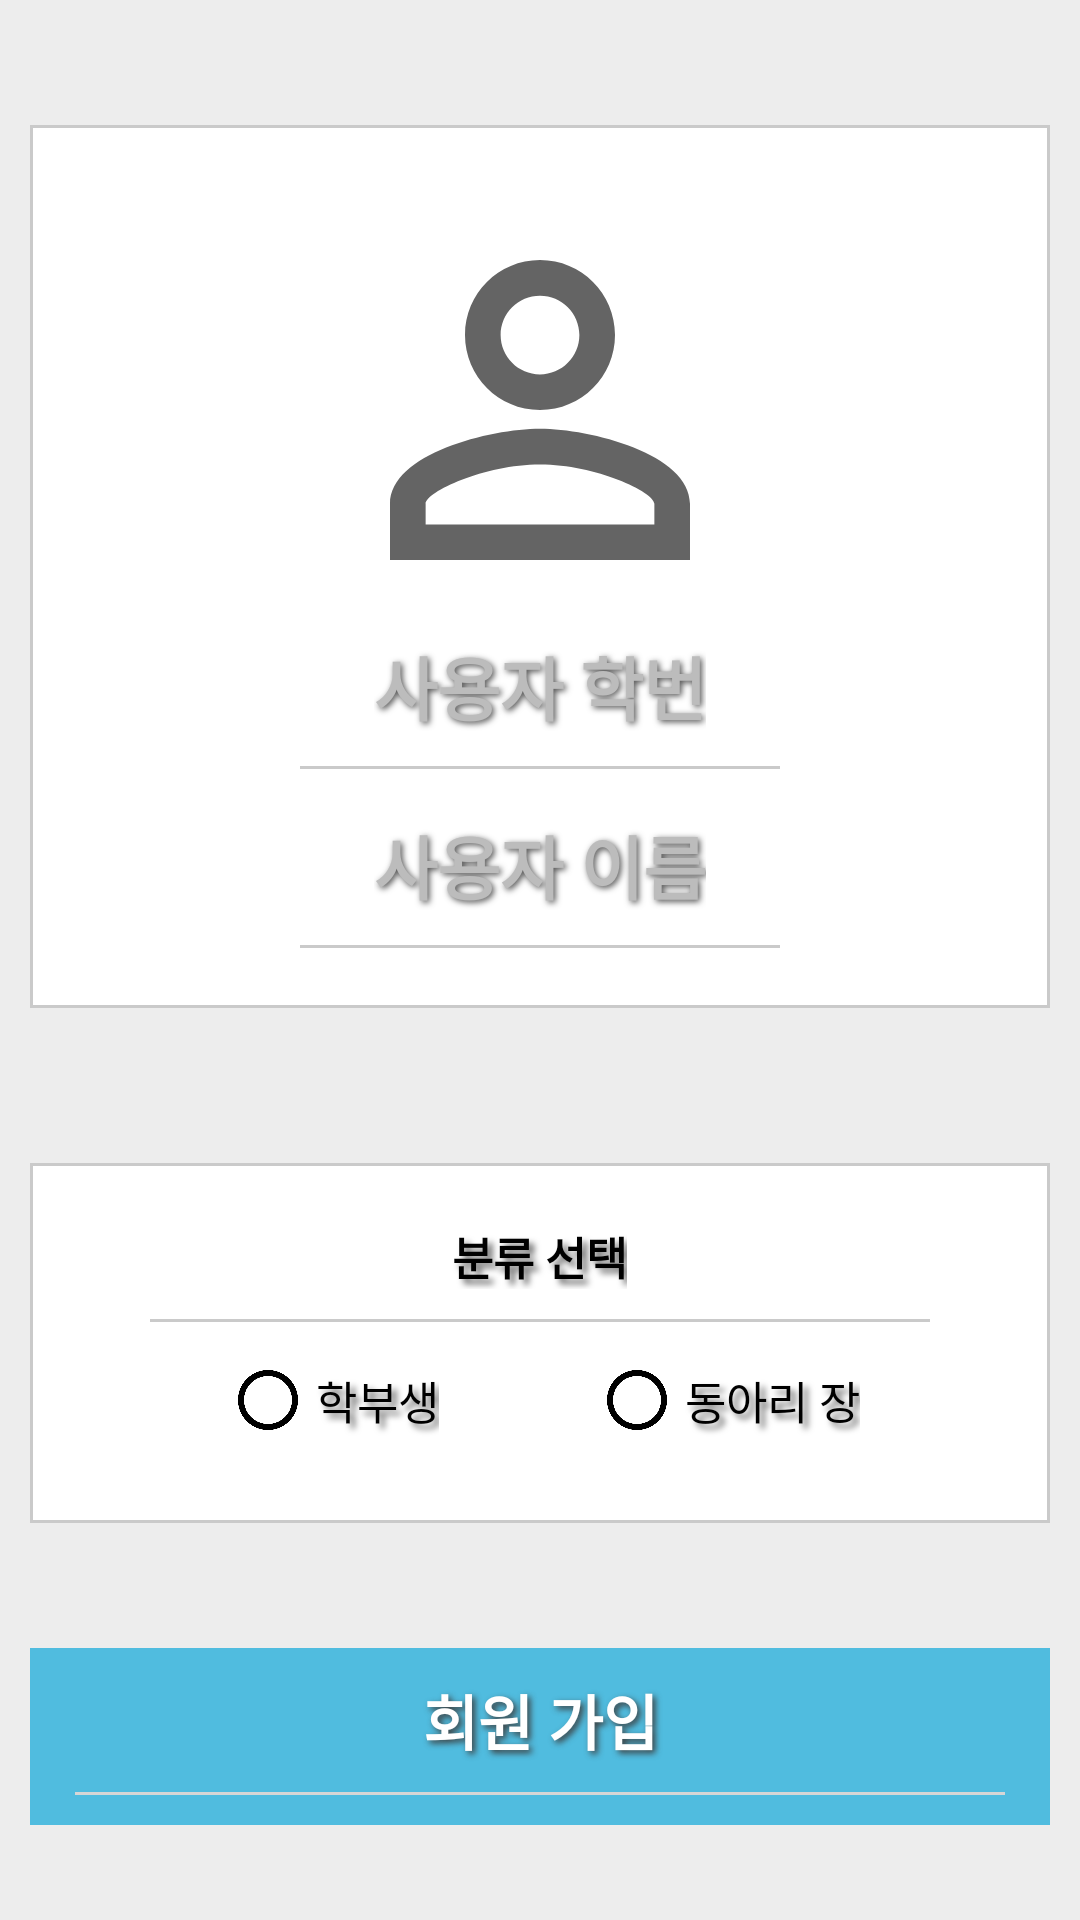

Named icons in this screenshot (1080px x 1920px) and their centers, [x,y]:
perm identity: [540,410]
